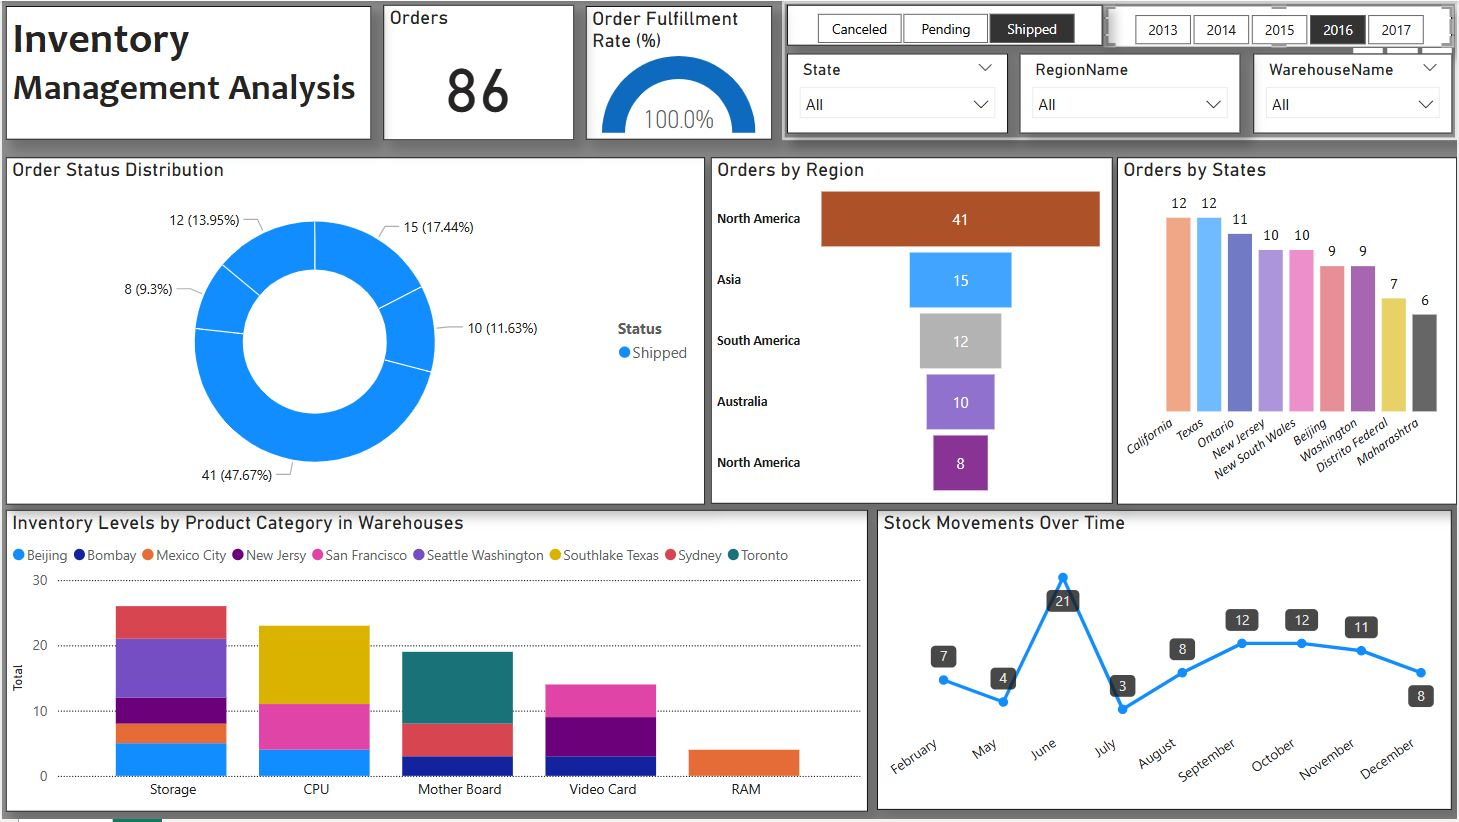

What the dashboard file says about the page in this screenshot:
{"tool":"powerbi","page":{"name":"Page 1","canvas":[1280,720],"ordinal":0},"visuals":[{"type":"shape","box":[685.7,0,594.1,122.6],"z":0},{"type":"columnChart","title":"Inventory Levels by Product Category in Warehouses","fields":{"Category":["ML-Dataset.CategoryName"],"Y":["CountNonNull(ML-Dataset.ProductName)"],"Series":["ML-Dataset.WarehouseName"]},"box":[3.6,447.6,758.3,265.5],"z":1000},{"type":"lineChart","title":"Stock Movements Over Time","fields":{"Category":["ML-Dataset.OrderDate.Variation.Date Hierarchy.Month"],"Y":["CountNonNull(ML-Dataset.ProductName)"]},"box":[770.2,447.6,506,264.3],"z":2000},{"type":"slicer","fields":{"Values":["ML-Dataset.OrderDate.Variation.Date Hierarchy.Year"]},"box":[970.2,4.8,306,35.7],"z":3000},{"type":"slicer","fields":{"Values":["ML-Dataset.WarehouseName"]},"box":[1101.2,46.4,175,70.2],"z":4000},{"type":"slicer","fields":{"Values":["ML-Dataset.Status"]},"box":[690.5,3.6,277.4,35.7],"z":5000},{"type":"donutChart","title":"Order Status Distribution","fields":{"Y":["CountNonNull(ML-Dataset.Status)"],"Category":["ML-Dataset.Status"],"Series":["ML-Dataset.RegionName"]},"box":[3.6,136.9,615.5,306],"z":6000},{"type":"funnel","title":"Orders by Region","fields":{"Y":["CountNonNull(ML-Dataset.Status)"],"Category":["ML-Dataset.RegionName"]},"box":[623.8,136.9,353.6,304.8],"z":7000},{"type":"gauge","title":"Order Fulfillment Rate (%)","fields":{"Y":["ML-Dataset.Order Fulfillment Rate (%)"],"TargetValue":["CountNonNull(ML-Dataset.Status)"]},"box":[513.1,4.8,164.3,117.9],"z":8000},{"type":"slicer","fields":{"Values":["ML-Dataset.State"]},"box":[690.5,46.4,194,70.2],"z":9000},{"type":"columnChart","title":"Orders by States","fields":{"Category":["ML-Dataset.State"],"Y":["CountNonNull(ML-Dataset.Status)"]},"box":[981,136.9,298.8,306],"z":10000},{"type":"card","title":"Orders","fields":{"Values":["CountNonNull(ML-Dataset.Status)"]},"box":[335.7,3.6,167.9,119],"z":11000},{"type":"slicer","fields":{"Values":["ML-Dataset.RegionName"]},"box":[895.2,46.4,194,70.2],"z":12000},{"type":"textbox","box":[3.6,4.8,321.4,117.9],"z":13000}]}

Visuals, with their boxes in screenshot pixels (x1, y1, x2, y2), scaled from the page's 1280x720 canvas onto the 1459x822 screenshot:
shape: {"x1": 782, "y1": 0, "x2": 1458, "y2": 140}
"Inventory Levels by Product Category in Warehouses" columnChart: {"x1": 4, "y1": 511, "x2": 868, "y2": 814}
"Stock Movements Over Time" lineChart: {"x1": 878, "y1": 511, "x2": 1455, "y2": 813}
slicer - ML-Dataset.OrderDate.Variation.Date Hierarchy.Year: {"x1": 1106, "y1": 5, "x2": 1455, "y2": 46}
slicer - ML-Dataset.WarehouseName: {"x1": 1255, "y1": 53, "x2": 1455, "y2": 133}
slicer - ML-Dataset.Status: {"x1": 787, "y1": 4, "x2": 1103, "y2": 45}
"Order Status Distribution" donutChart: {"x1": 4, "y1": 156, "x2": 706, "y2": 506}
"Orders by Region" funnel: {"x1": 711, "y1": 156, "x2": 1114, "y2": 504}
"Order Fulfillment Rate (%)" gauge: {"x1": 585, "y1": 5, "x2": 772, "y2": 140}
slicer - ML-Dataset.State: {"x1": 787, "y1": 53, "x2": 1008, "y2": 133}
"Orders by States" columnChart: {"x1": 1118, "y1": 156, "x2": 1458, "y2": 506}
"Orders" card: {"x1": 383, "y1": 4, "x2": 574, "y2": 140}
slicer - ML-Dataset.RegionName: {"x1": 1020, "y1": 53, "x2": 1242, "y2": 133}
textbox: {"x1": 4, "y1": 5, "x2": 370, "y2": 140}
